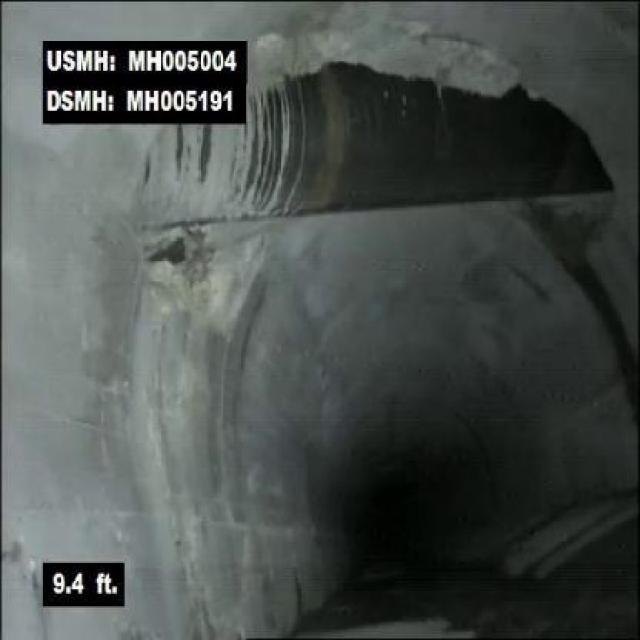Utility intrusion: (264, 38, 638, 222), (140, 124, 634, 238)
